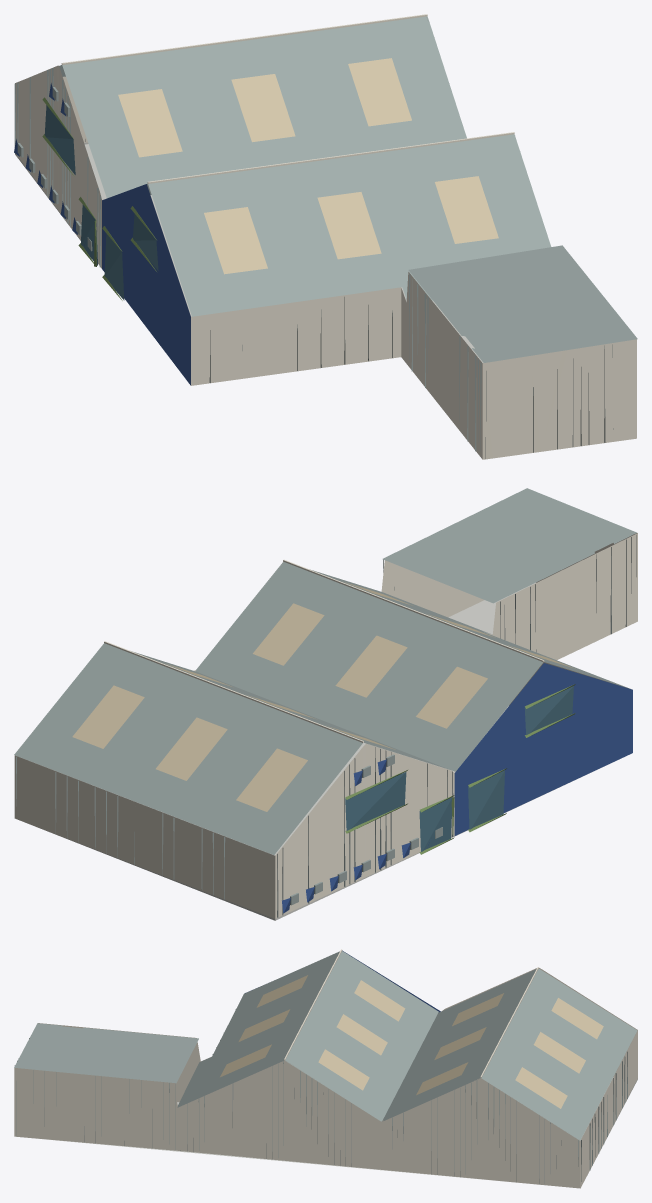
Rendered from nieuw-dakota.lod1.glb.
The picture shows the model from 3 angles, top to bottom: view 1: azimuth 30°, elevation 25°; view 2: azimuth 150°, elevation 25°; view 3: azimuth 270°, elevation 25°; orthographic projection. The views are drawn at different scales.
Parts seen in each view (by area): view 1: nieuw-dakota; view 2: nieuw-dakota; view 3: nieuw-dakota.
Part boxes in pixels (x1,y1,x2,y2): nieuw-dakota: (14,14,637,459); nieuw-dakota: (14,488,637,920); nieuw-dakota: (14,949,637,1188).
Bounding box in the file's own units: 26.51 × 8.73 × 47.49.
